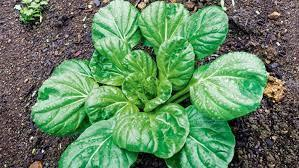Healthy-Pechay: (55, 9, 246, 168)
